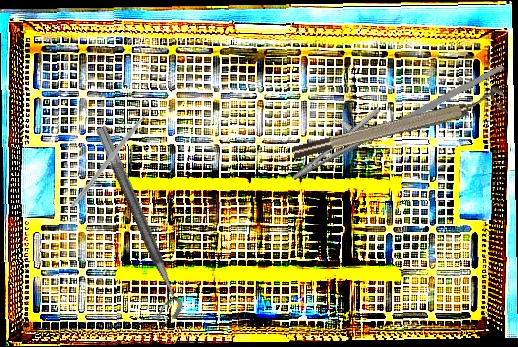Chopper: (69, 98, 164, 217)
Fixation Ring: (79, 124, 188, 326), (289, 85, 508, 163)
Needle Holder: (280, 25, 506, 205)
